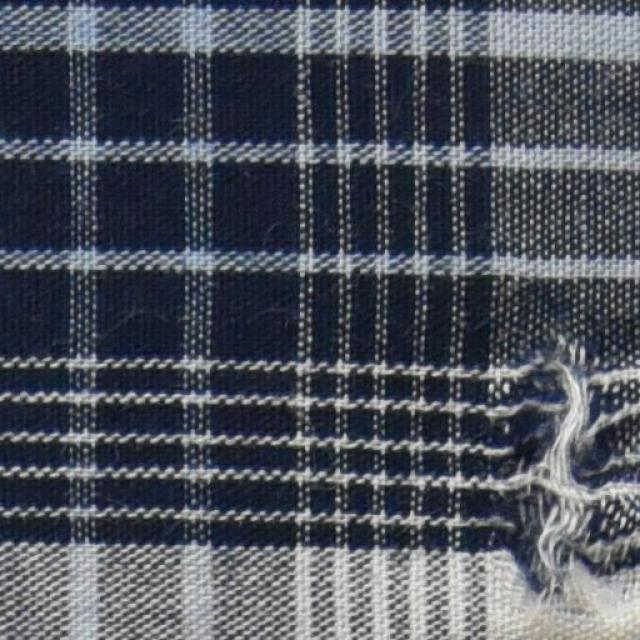Snag: (475, 308, 634, 590)
